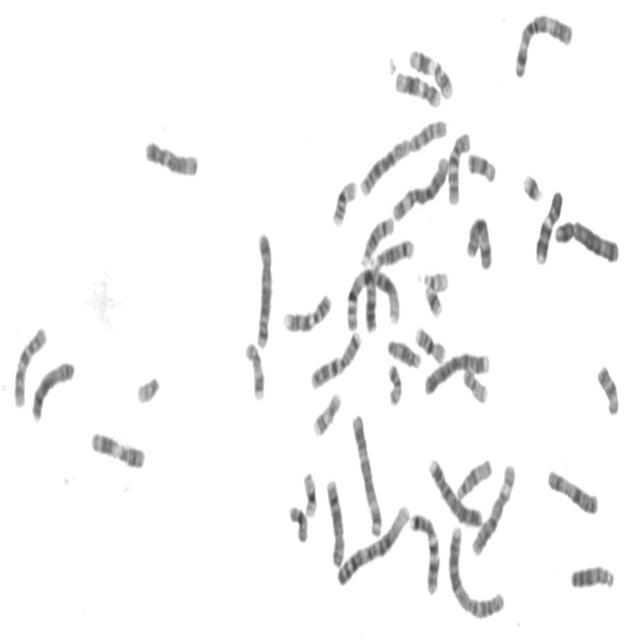A1: (333, 496, 411, 589), (342, 260, 402, 333)
A2: (357, 112, 449, 198), (445, 519, 507, 621)
A3: (510, 5, 574, 80), (348, 406, 384, 537)
B4: (425, 452, 484, 529), (421, 345, 491, 397)
B5: (552, 217, 620, 267), (251, 224, 275, 350)
C10: (10, 318, 48, 409), (444, 124, 472, 207)
C11: (406, 41, 455, 101), (87, 423, 147, 471)
C12: (141, 133, 200, 179), (392, 63, 442, 110)
C6: (468, 456, 517, 558), (389, 148, 451, 223)
C7: (307, 324, 363, 391), (406, 505, 441, 597)
C8: (28, 353, 76, 424), (322, 472, 347, 570)
C9: (532, 184, 564, 267), (280, 286, 334, 334)
D13: (566, 558, 616, 593), (362, 256, 379, 340)
D14: (358, 209, 396, 267), (369, 231, 416, 270)
D15: (453, 452, 493, 502), (384, 332, 423, 370)
E16: (328, 172, 358, 228), (412, 320, 447, 365)
E17: (310, 386, 342, 439), (242, 334, 266, 402)
E18: (593, 357, 621, 418), (463, 144, 498, 184)
F19: (300, 465, 319, 520), (463, 367, 490, 405)
F20: (384, 356, 404, 408), (286, 499, 309, 544)
G21: (421, 276, 444, 320), (518, 166, 544, 204)
G22: (133, 368, 161, 406), (418, 263, 450, 294)
X: (544, 462, 600, 518), (463, 208, 494, 272)
